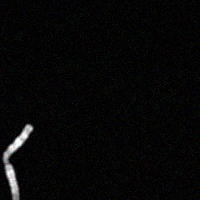chromosome: (0, 123, 33, 200)
